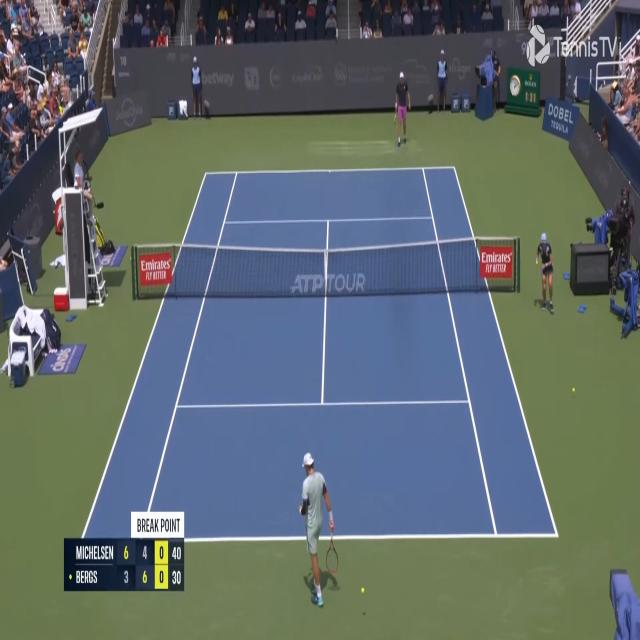tennis-player: (298, 451, 340, 607), (391, 70, 409, 149)
